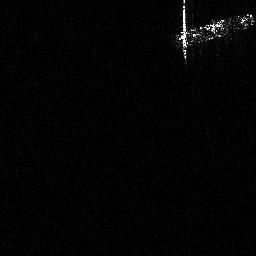ship: (173, 1, 256, 68)
